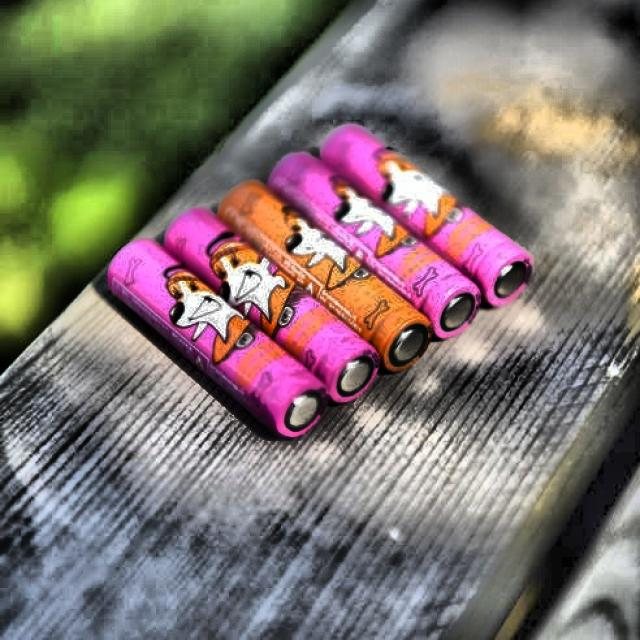Non-Valuable Waste - Batteries: (108, 240, 328, 438), (165, 209, 380, 403), (221, 182, 432, 371), (269, 154, 481, 338), (320, 127, 532, 305)
